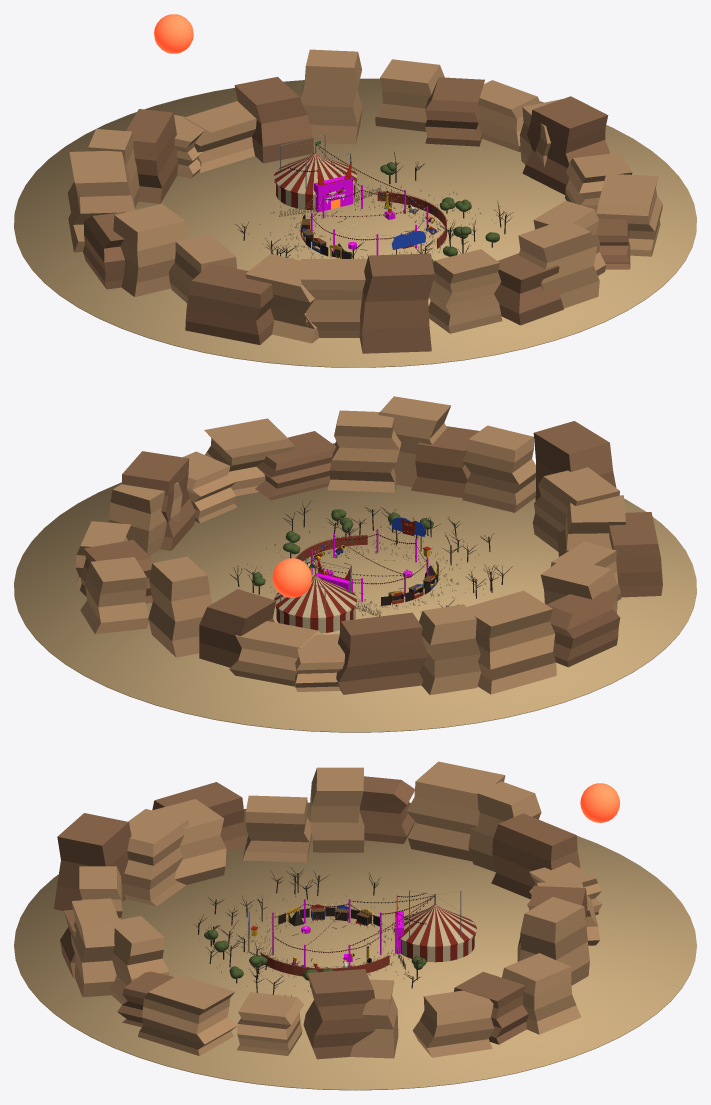
Rendered from circo.glb.
The picture shows the model from 3 angles, top to bottom: view 1: azimuth 30°, elevation 25°; view 2: azimuth 150°, elevation 25°; view 3: azimuth 270°, elevation 25°; orthographic projection.
Parts seen in each view (by area): view 1: GROUND_sand, static_MAT_CLOTH_sandstone, static_MAT_CLOTH_sandstone_dark, static_MAT_CLOTH_tent_red, static_MAT_CLOTH_tent_cream, moon, static_MAT_CLOTH_dead_wood, COL_box_facade, static_MAT_CLOTH_caatinga_leaf, static_MAT_CLOTH_brick_red, dryGrass; view 2: GROUND_sand, static_MAT_CLOTH_sandstone, static_MAT_CLOTH_sandstone_dark, static_MAT_CLOTH_tent_cream, static_MAT_CLOTH_tent_red, static_MAT_CLOTH_dead_wood, moon, static_MAT_CLOTH_caatinga_leaf, dryGrass, static_MAT_CLOTH_brick_red, entranceSign; view 3: GROUND_sand, static_MAT_CLOTH_sandstone, static_MAT_CLOTH_sandstone_dark, static_MAT_CLOTH_tent_cream, static_MAT_CLOTH_tent_red, static_MAT_CLOTH_dead_wood, moon, static_MAT_CLOTH_caatinga_leaf, static_MAT_CLOTH_brick_red, dryGrass.
Part boxes in pixels (x1=…): GROUND_sand: x1=14, y1=78, x2=696, y2=367; static_MAT_CLOTH_sandstone: x1=67, y1=49, x2=662, y2=343; static_MAT_CLOTH_sandstone_dark: x1=83, y1=77, x2=630, y2=353; static_MAT_CLOTH_tent_red: x1=274, y1=153, x2=356, y2=210; static_MAT_CLOTH_tent_cream: x1=274, y1=152, x2=356, y2=210; moon: x1=154, y1=14, x2=193, y2=53; static_MAT_CLOTH_dead_wood: x1=235, y1=152, x2=513, y2=261; COL_box_facade: x1=314, y1=175, x2=352, y2=212; static_MAT_CLOTH_caatinga_leaf: x1=380, y1=162, x2=499, y2=263; static_MAT_CLOTH_brick_red: x1=377, y1=191, x2=446, y2=248; dryGrass: x1=242, y1=185, x2=494, y2=258; GROUND_sand: x1=14, y1=443, x2=696, y2=732; static_MAT_CLOTH_sandstone: x1=75, y1=396, x2=625, y2=694; static_MAT_CLOTH_sandstone_dark: x1=80, y1=421, x2=662, y2=694; static_MAT_CLOTH_tent_cream: x1=274, y1=576, x2=356, y2=633; static_MAT_CLOTH_tent_red: x1=274, y1=576, x2=356, y2=632; static_MAT_CLOTH_dead_wood: x1=230, y1=500, x2=512, y2=616; moon: x1=272, y1=558, x2=311, y2=597; static_MAT_CLOTH_caatinga_leaf: x1=252, y1=509, x2=433, y2=586; dryGrass: x1=247, y1=523, x2=494, y2=616; static_MAT_CLOTH_brick_red: x1=295, y1=535, x2=367, y2=561; entranceSign: x1=391, y1=517, x2=425, y2=551; GROUND_sand: x1=14, y1=802, x2=696, y2=1090; static_MAT_CLOTH_sandstone: x1=71, y1=761, x2=602, y2=1058; static_MAT_CLOTH_sandstone_dark: x1=54, y1=776, x2=587, y2=1059; static_MAT_CLOTH_tent_cream: x1=393, y1=905, x2=476, y2=962; static_MAT_CLOTH_tent_red: x1=393, y1=904, x2=476, y2=962; static_MAT_CLOTH_dead_wood: x1=193, y1=867, x2=427, y2=994; moon: x1=580, y1=783, x2=619, y2=822; static_MAT_CLOTH_caatinga_leaf: x1=204, y1=930, x2=426, y2=980; static_MAT_CLOTH_brick_red: x1=261, y1=953, x2=389, y2=976; dryGrass: x1=199, y1=892, x2=408, y2=996.
Bounding box in the file's own units: 240 × 52 × 240.
